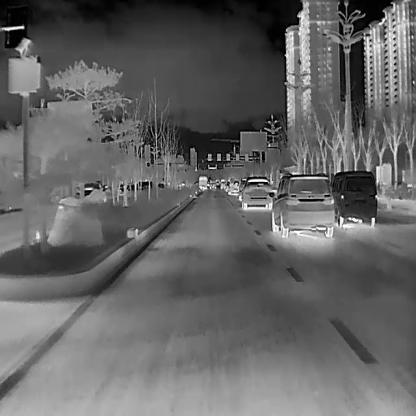car: (268, 172, 333, 238), (331, 169, 376, 225), (241, 176, 272, 208), (74, 179, 107, 205), (226, 177, 239, 194), (198, 175, 207, 190), (218, 177, 226, 192), (209, 178, 216, 188)
